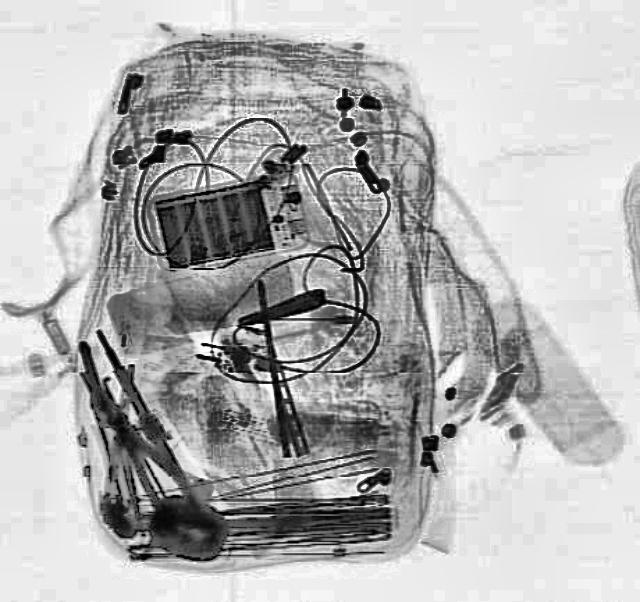Pliers: (53, 356, 197, 524)
